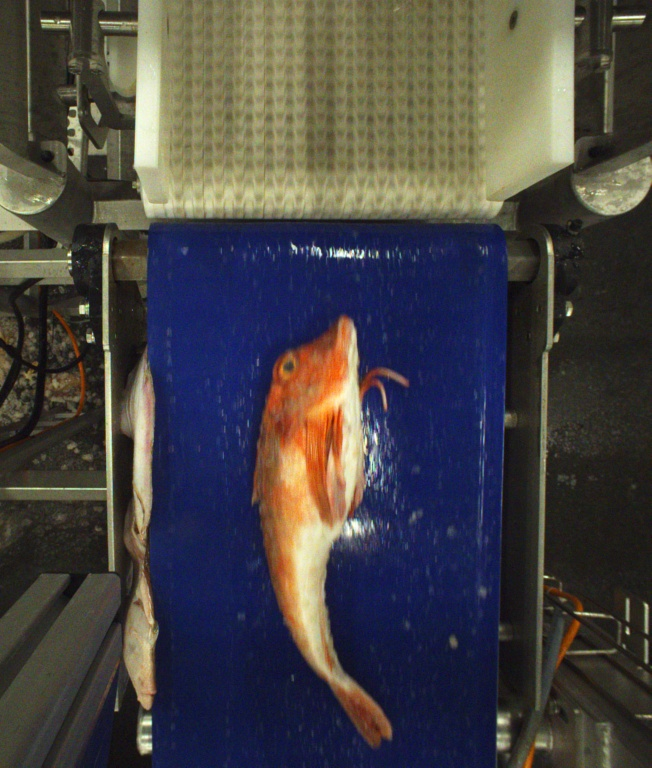GUU: (241, 315, 396, 749)
